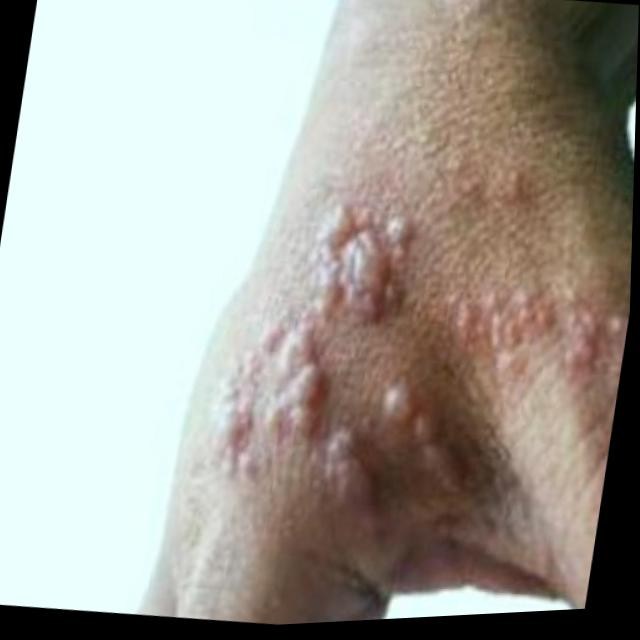Shingles: (180, 184, 634, 550)
